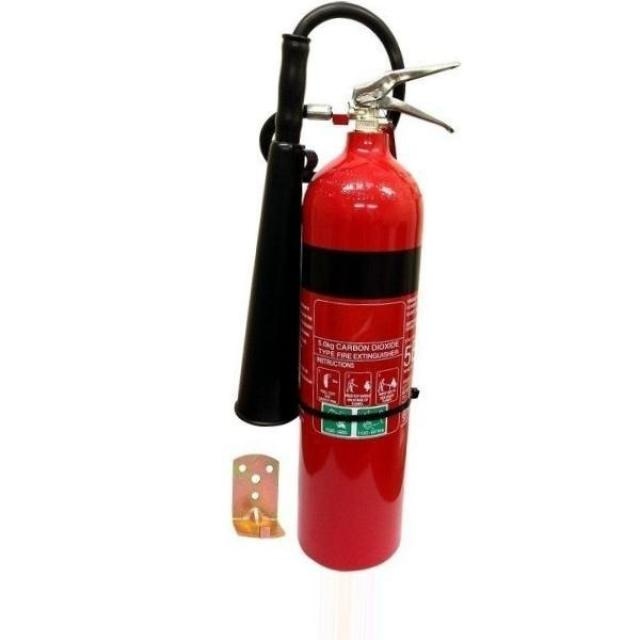fire_extinguisher: (225, 0, 464, 577)
